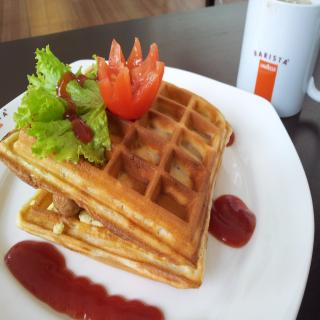Waffle: (0, 65, 228, 265), (16, 122, 234, 290)
